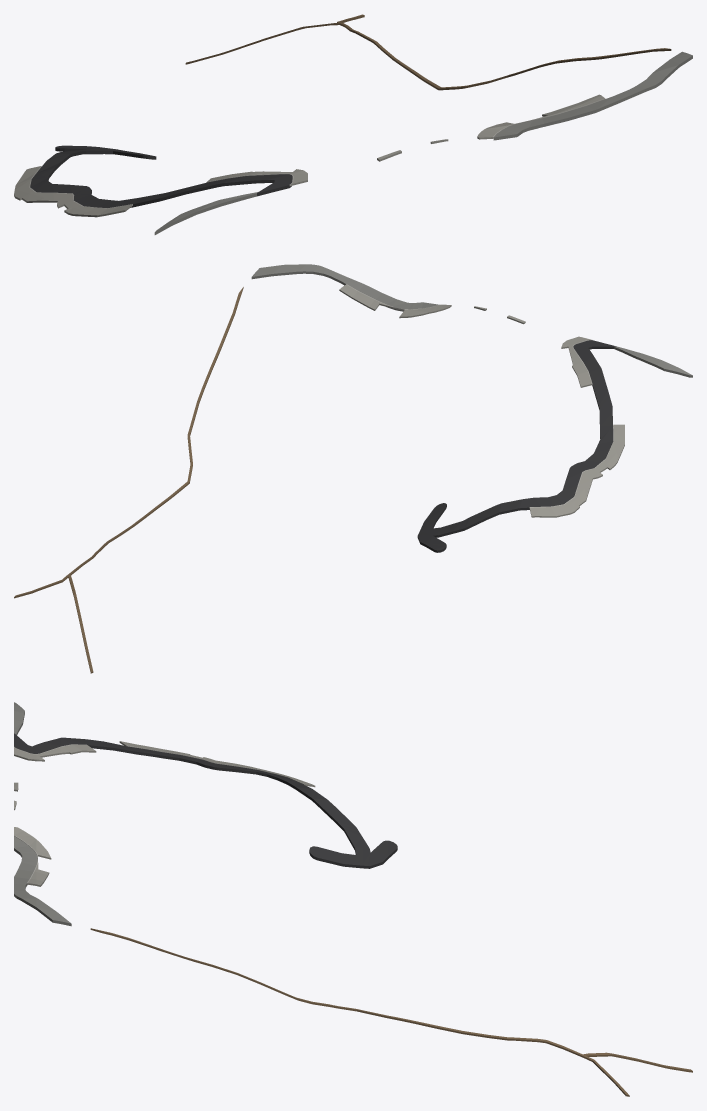
File: 17-109437-59491.bab87229.glb
The picture shows the model from 3 angles, top to bottom: view 1: azimuth 30°, elevation 25°; view 2: azimuth 150°, elevation 25°; view 3: azimuth 270°, elevation 25°; orthographic projection. The views are drawn at different scales.
Bounding box in the file's own units: 225 × 94.48 × 271.
